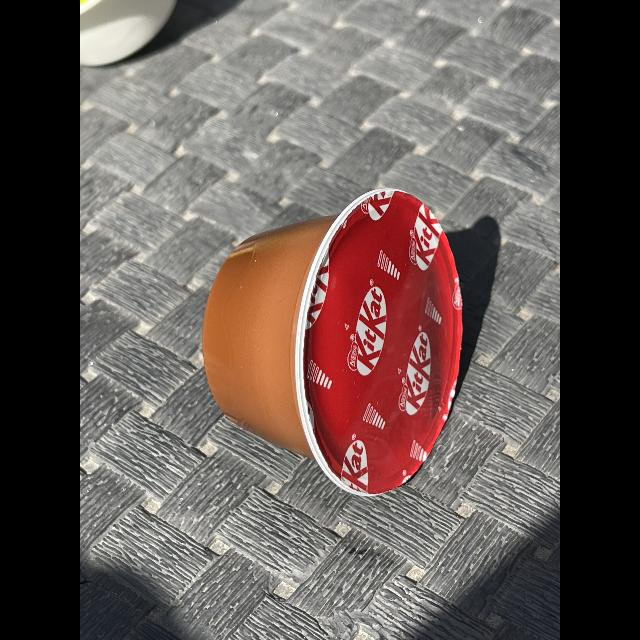intact_capsule: (191, 171, 473, 519)
